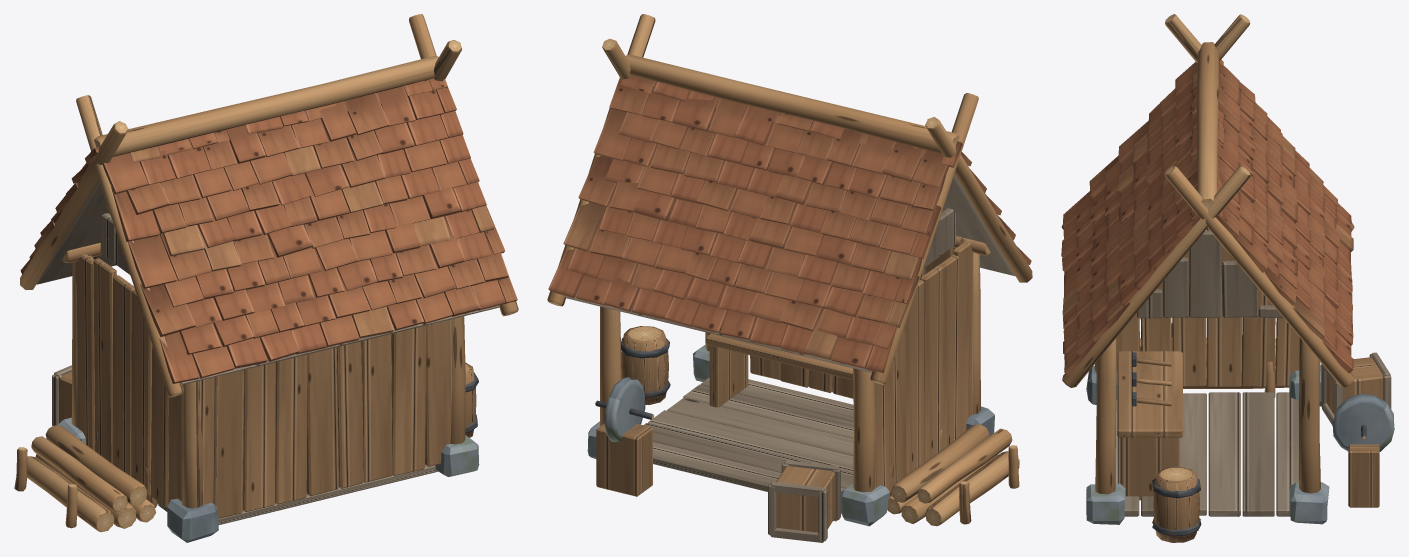
File: bw_toolmaker.fbx
3 views of the same model, side by side, from view 1: azimuth 30°, elevation 25°; view 2: azimuth 150°, elevation 25°; view 3: azimuth 270°, elevation 25° (orthographic). The views are drawn at different scales.
Parts seen in each view (by area): view 1: bw_toolmaker; view 2: bw_toolmaker; view 3: bw_toolmaker.
Part boxes in pixels (x1,y1,x2,y2): bw_toolmaker: (14, 14, 518, 542); bw_toolmaker: (547, 14, 1032, 542); bw_toolmaker: (1061, 14, 1394, 542).
Bounding box in the file's own units: 2.82 × 2.61 × 2.13.
